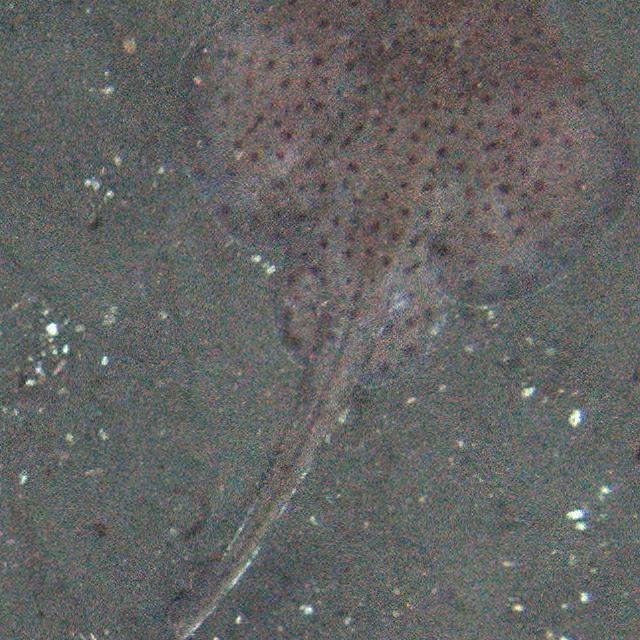skate: (128, 0, 634, 635)
